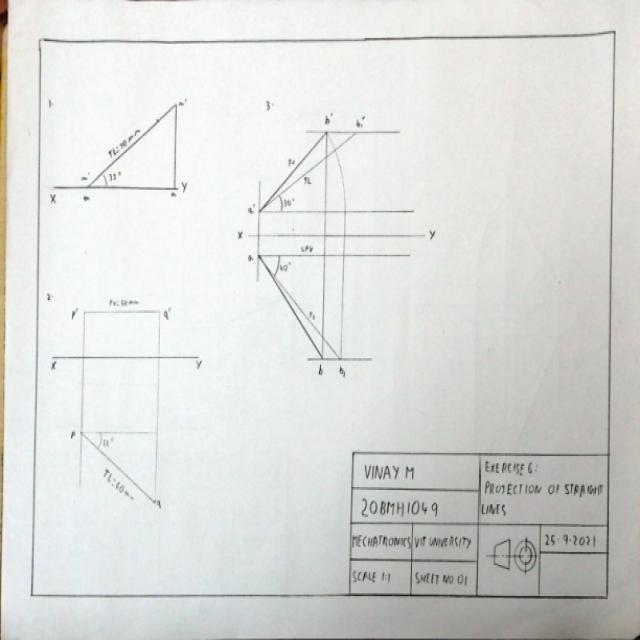Drawings: (235, 89, 441, 383), (49, 295, 184, 513), (47, 90, 193, 208)
